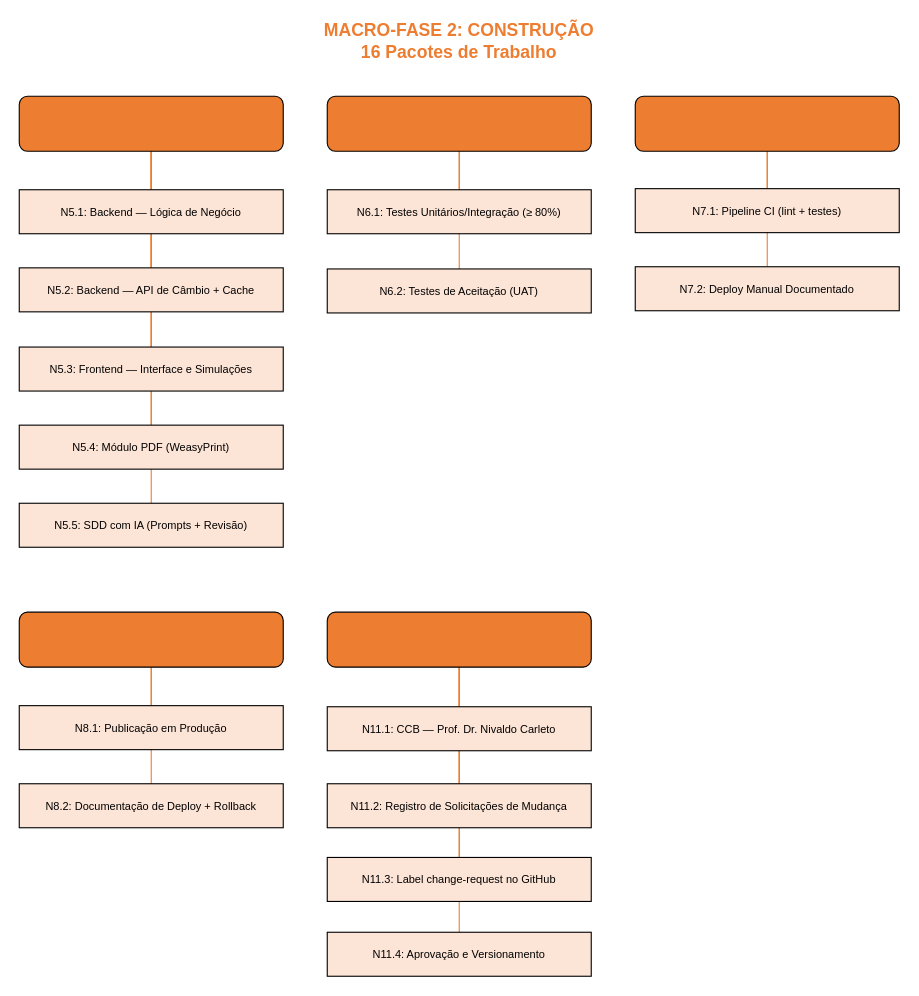
This 919x996 diagram has some shape labels left out. The shapes that lost their labels are listed below. From the top down, each one's box as (x1, y1, x2, y2) in pixels, then its label:
(18, 95, 283, 151): N5: Desenvolvimento do Sistema
(326, 95, 591, 151): N6: Garantia da Qualidade
(634, 95, 899, 151): N7: DevOps e CI/CD
(18, 611, 283, 667): N8: Implantação (Deploy)
(326, 611, 591, 667): N11: Gestão de Mudanças
